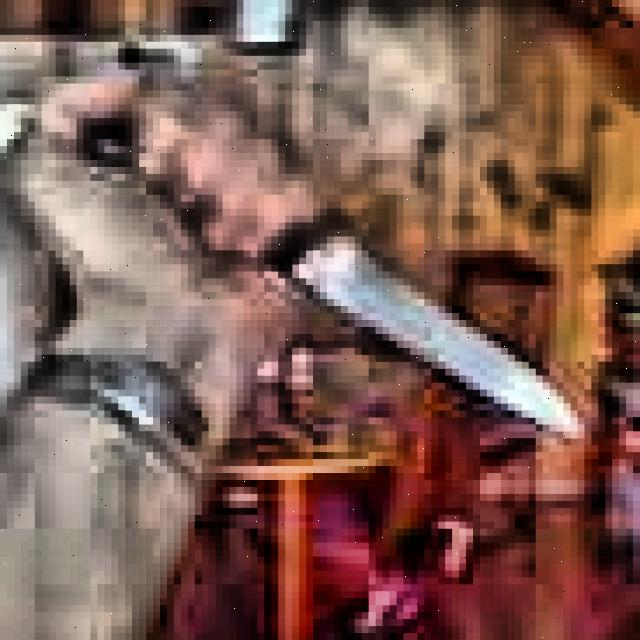knife: (94, 114, 584, 443)
